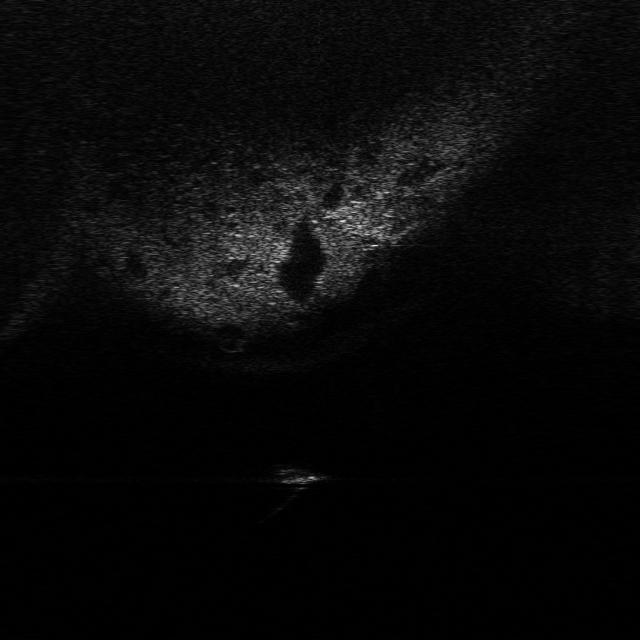cube: (266, 459, 330, 489)
